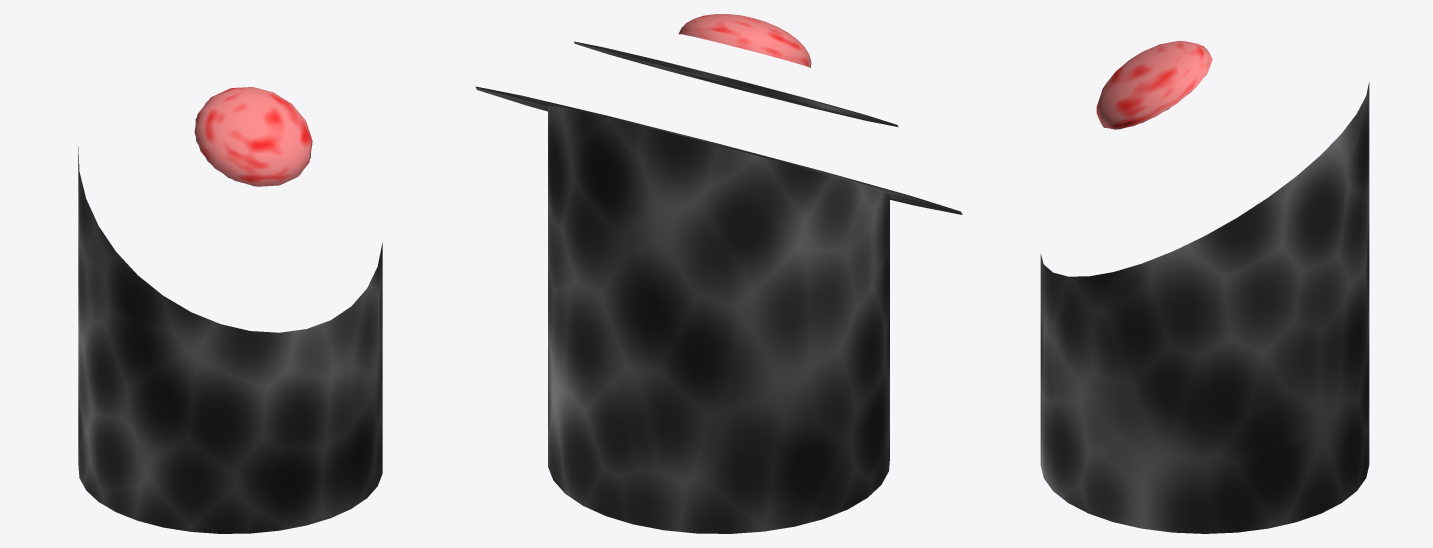
The model's file is DHD_Stand_Frame.glb.
3 views of the same model, side by side, from view 1: azimuth 30°, elevation 25°; view 2: azimuth 150°, elevation 25°; view 3: azimuth 270°, elevation 25° (orthographic). The views are drawn at different scales.
Parts seen in each view (by area): view 1: Stand, Button; view 2: Stand, Button, Keys_Plates, KeyBasePlate; view 3: Stand, Button.
Boxes of the visible parts, x1,y1,x2,y2 form: Stand: [78, 146, 382, 533]; Button: [194, 87, 312, 186]; Stand: [548, 105, 889, 533]; Button: [678, 14, 811, 67]; Keys_Plates: [574, 41, 898, 127]; KeyBasePlate: [475, 86, 962, 214]; Stand: [1040, 82, 1369, 533]; Button: [1096, 40, 1212, 129].
Size of the model in its own units: 1.46 by 1.42 by 1.3.
3 materials, 3 textured.
